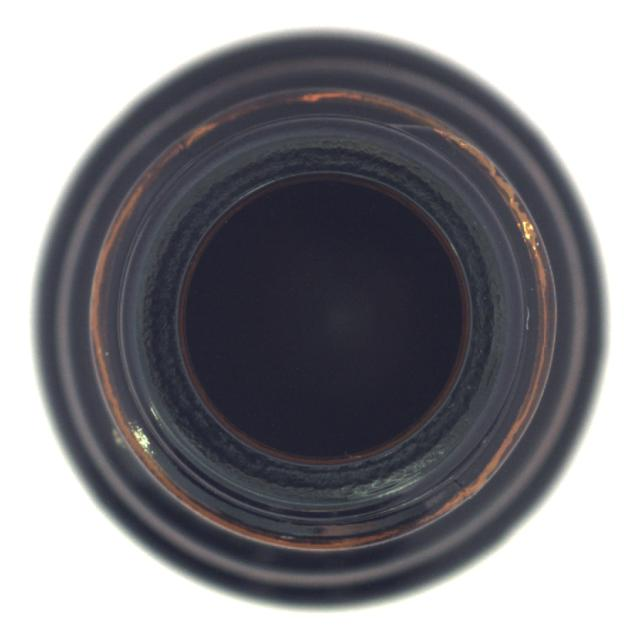bottle-good: (30, 30, 598, 607)
